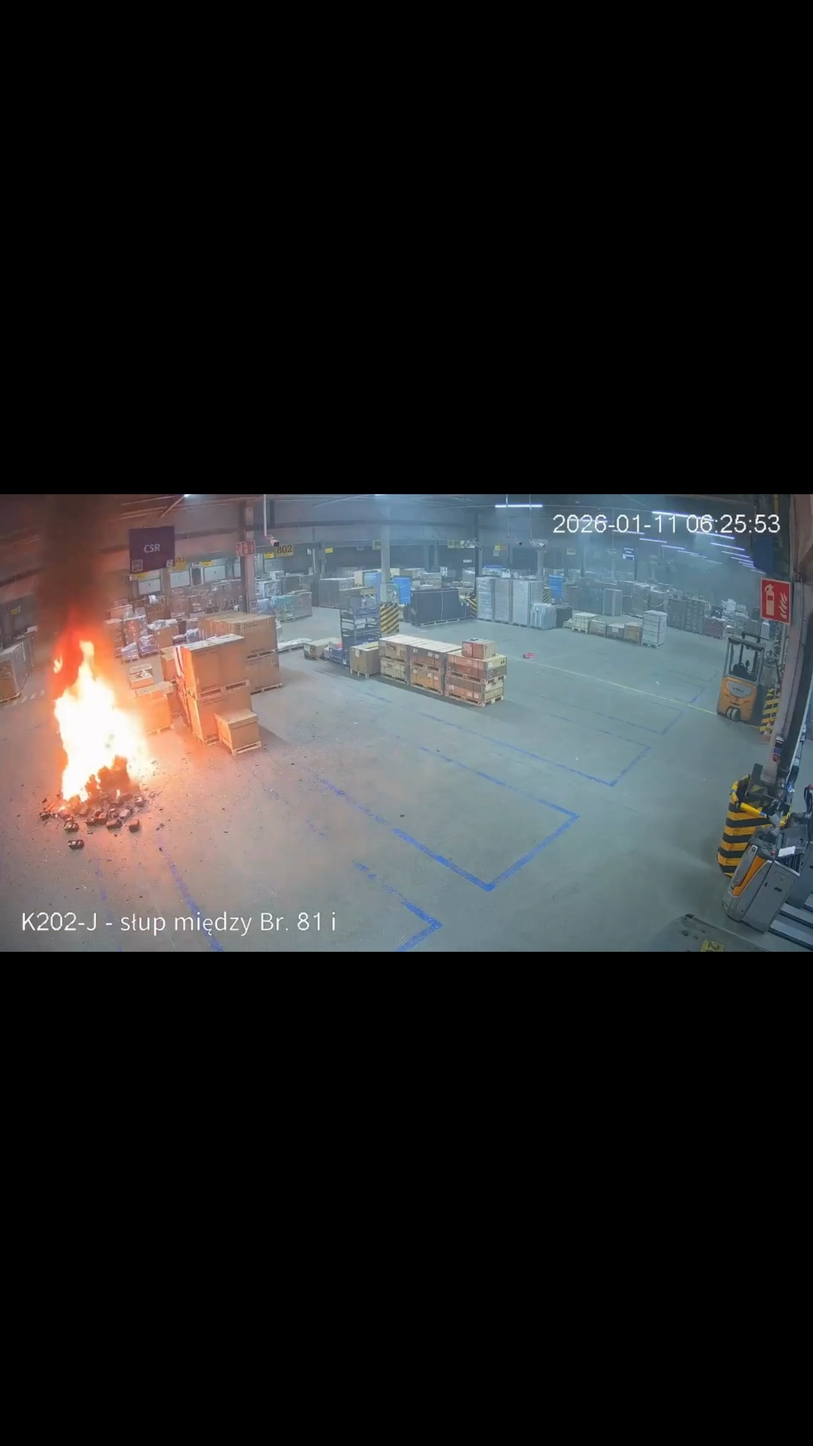fire: (49, 623, 151, 810)
smoke: (29, 497, 132, 654)
